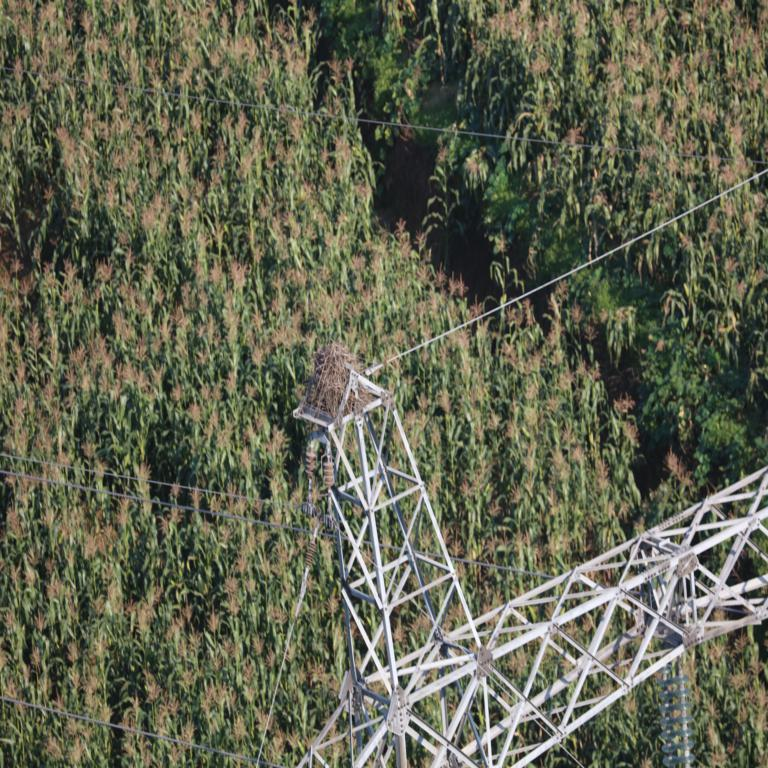nest: (300, 345, 372, 419)
